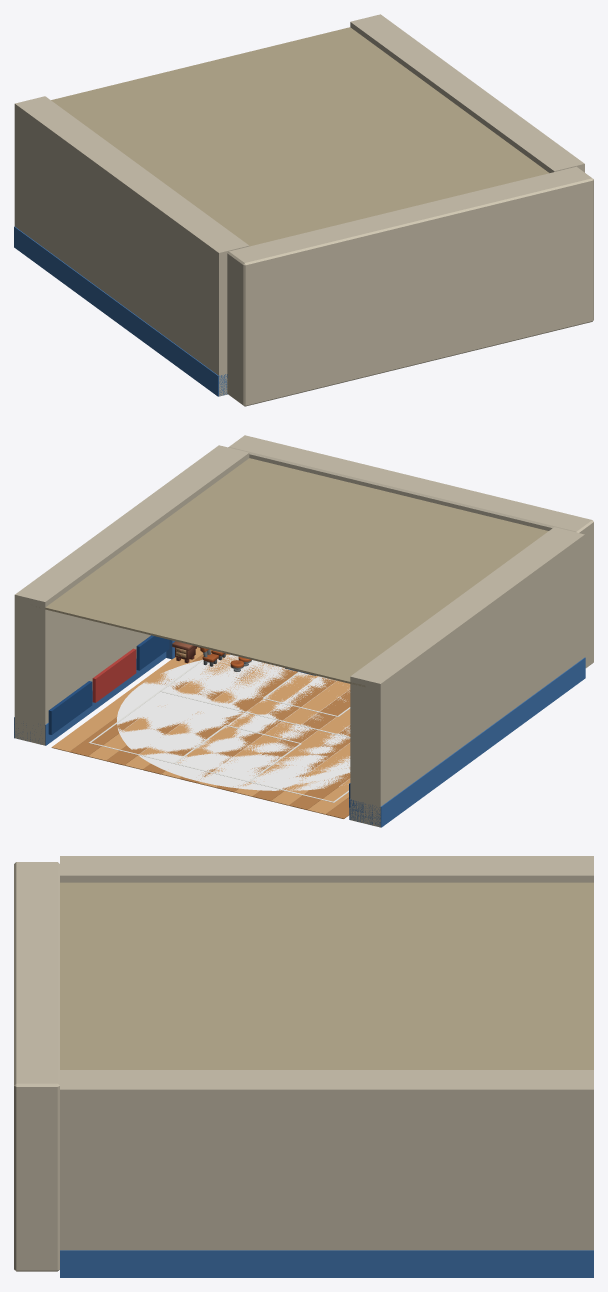
Rendered from arena.fbx.
3 renders of one model, top to bottom at view 1: azimuth 30°, elevation 25°; view 2: azimuth 150°, elevation 25°; view 3: azimuth 270°, elevation 25°, orthographic. The views are drawn at different scales.
Parts seen in each view (by area): view 1: arena_backdrop; view 2: arena_backdrop, arena_floor, Col_Ground; view 3: arena_backdrop.
Part boxes in pixels (<box>): arena_backdrop: <box>14,14,593,406</box>; arena_backdrop: <box>14,435,593,827</box>; arena_floor: <box>51,647,350,818</box>; Col_Ground: <box>117,654,350,790</box>; arena_backdrop: <box>14,856,593,1277</box>.
Size of what is drawn, in the model's own units: 24.1 by 9.04 by 25.2.
